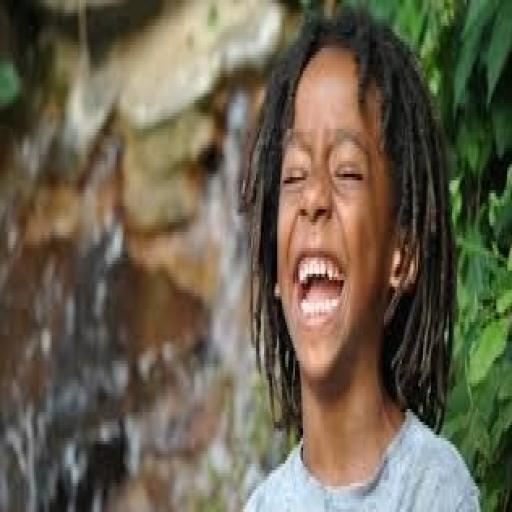laughing: (232, 6, 481, 502)
